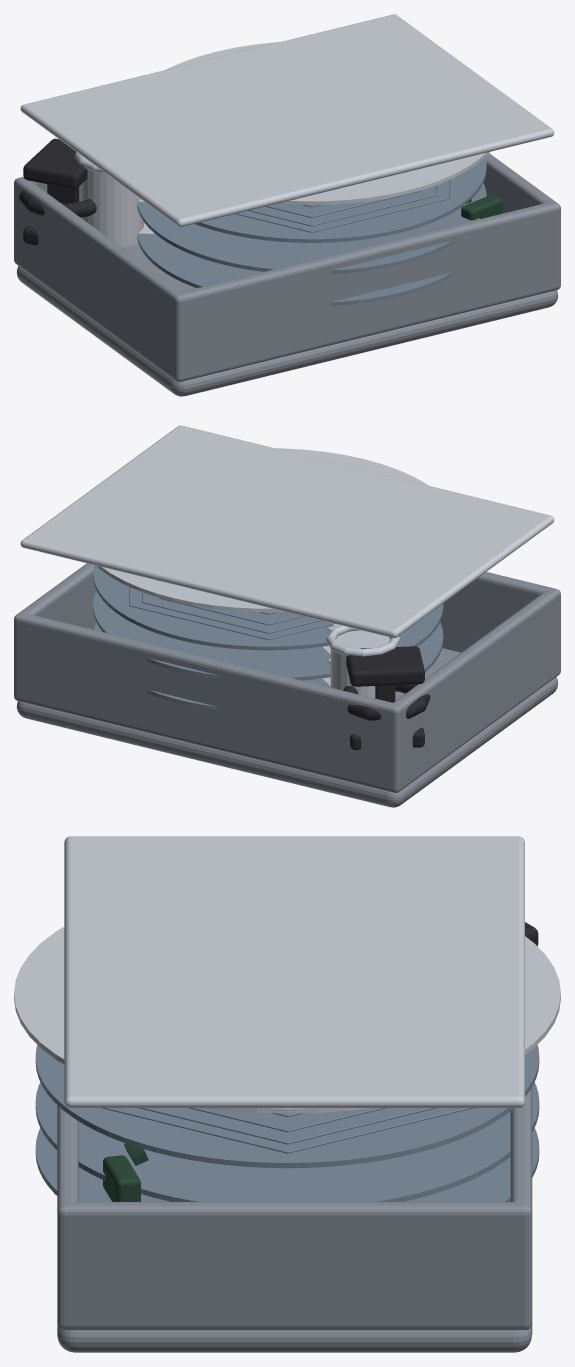
The model's file is hard_disk.glb.
The picture shows the model from 3 angles, top to bottom: view 1: azimuth 30°, elevation 25°; view 2: azimuth 150°, elevation 25°; view 3: azimuth 270°, elevation 25°; orthographic projection. The views are drawn at different scales.
Visible parts, largest first — view 1: cover, base, platters, actuator, magnet, voice_coil, ramp; view 2: cover, base, platters, magnet, actuator, voice_coil; view 3: cover, base, platters, ramp.
Boxes of the visible parts, box(x1,y1,x2,y2) form: cover: box(20, 14, 554, 226); base: box(14, 153, 560, 396); platters: box(137, 157, 486, 305); actuator: box(75, 152, 155, 247); magnet: box(23, 138, 87, 245); voice_coil: box(19, 184, 96, 217); ramp: box(461, 195, 502, 220); cover: box(20, 425, 554, 637); base: box(14, 563, 560, 807); platters: box(93, 565, 443, 710); magnet: box(346, 646, 424, 750); actuator: box(322, 622, 399, 700); voice_coil: box(343, 684, 430, 720); cover: box(14, 836, 560, 1113); base: box(57, 1087, 532, 1352); platters: box(35, 1045, 539, 1201); ramp: box(103, 1143, 148, 1201).
Size of the model in its own units: 1.81 by 0.7875 by 1.52.
